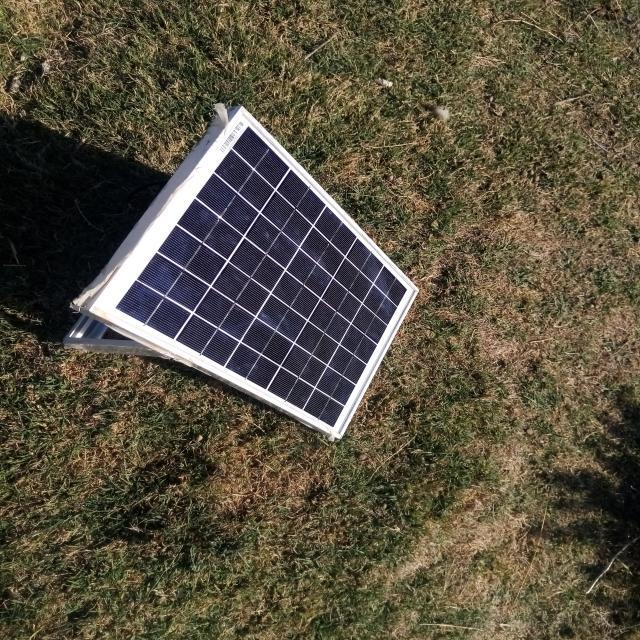no faulty: (90, 108, 418, 437)
